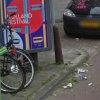bicycles: (0, 12, 34, 91), (0, 48, 27, 94)
